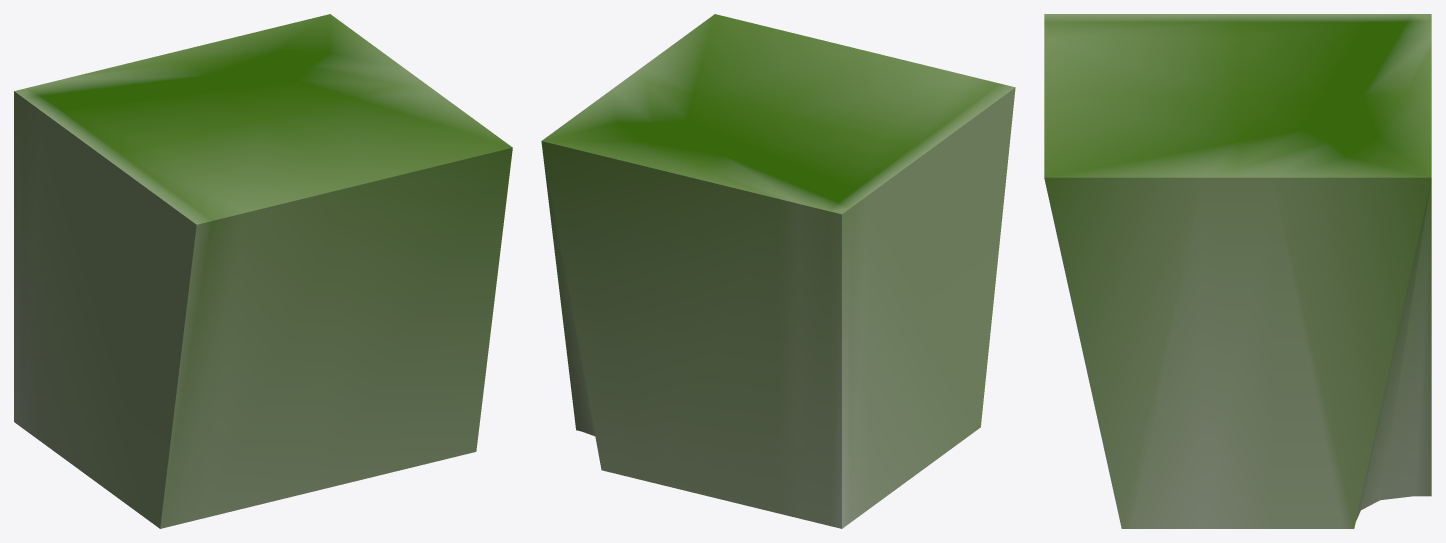
The model's file is T9DirB.fbx.
3 views of the same model, side by side, from view 1: azimuth 30°, elevation 25°; view 2: azimuth 150°, elevation 25°; view 3: azimuth 270°, elevation 25° (orthographic). The views are drawn at different scales.
Parts seen in each view (by area): view 1: 3, 1, 4, 2; view 2: 4, 2, 3, 1; view 3: 2, 1, 3, 4.
Boxes of the visible parts, x1,y1,x2,y2 form: 3: (105,119,354,528); 1: (264,81,512,490); 4: (14,52,262,488); 2: (172,14,421,119); 4: (691,114,928,528); 2: (541,77,777,492); 3: (779,50,1015,464); 1: (628,14,864,113); 2: (1238,96,1431,528); 1: (1044,96,1237,528); 3: (1044,14,1237,95); 4: (1238,14,1431,95).
Bounding box in the file's own units: 200 × 200 × 200.
